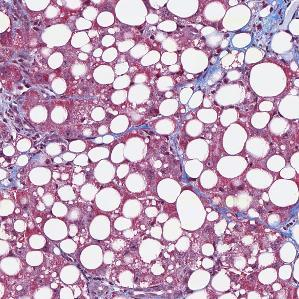fibrosis: (245, 0, 299, 61), (0, 140, 54, 183)
